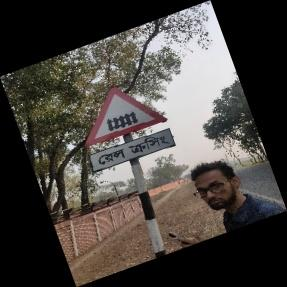Rail-crossing: (84, 87, 174, 174)
